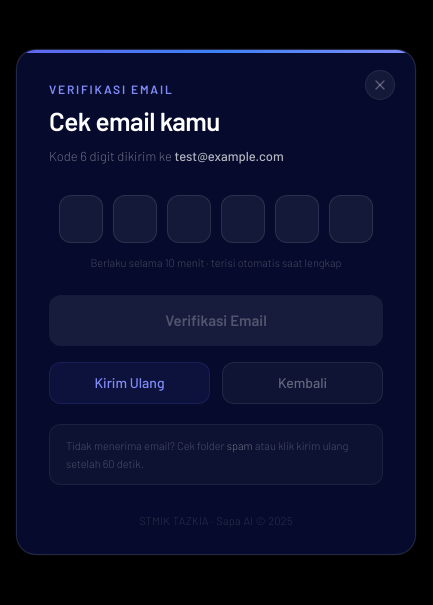
Test: VerifyEmailPage › handles resend code
The width and height of the screenshot is (433, 605).
Click the button "Kirim Ulang" at (130, 383), box [49,362,210,404]
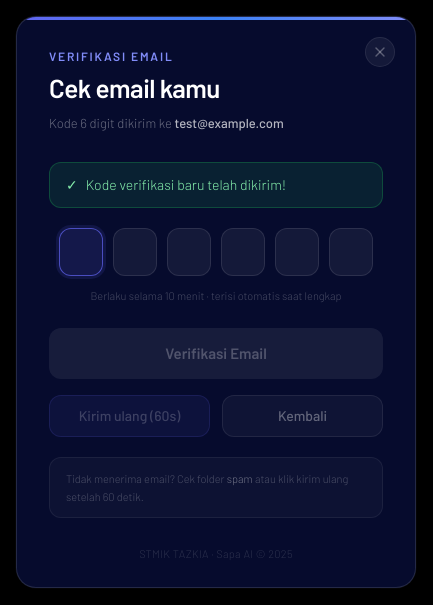
Now the text "✓ Kode verifikasi baru telah dikirim!" is shown, box [49,162,383,208]
